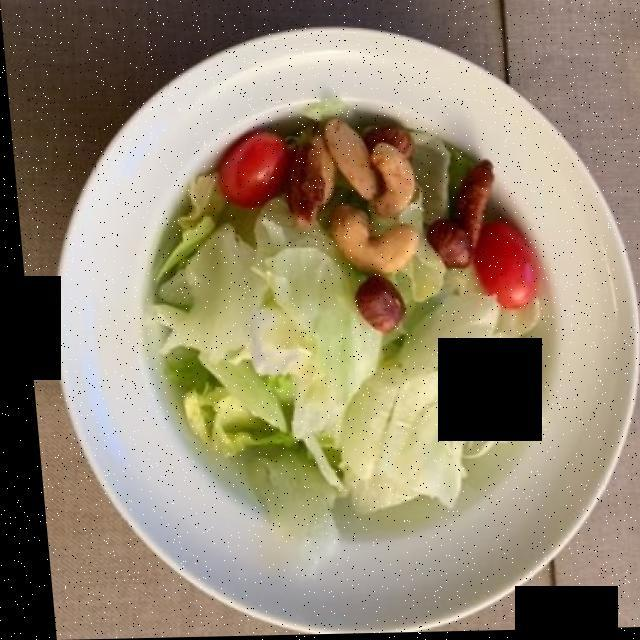salad: (164, 139, 544, 548)
